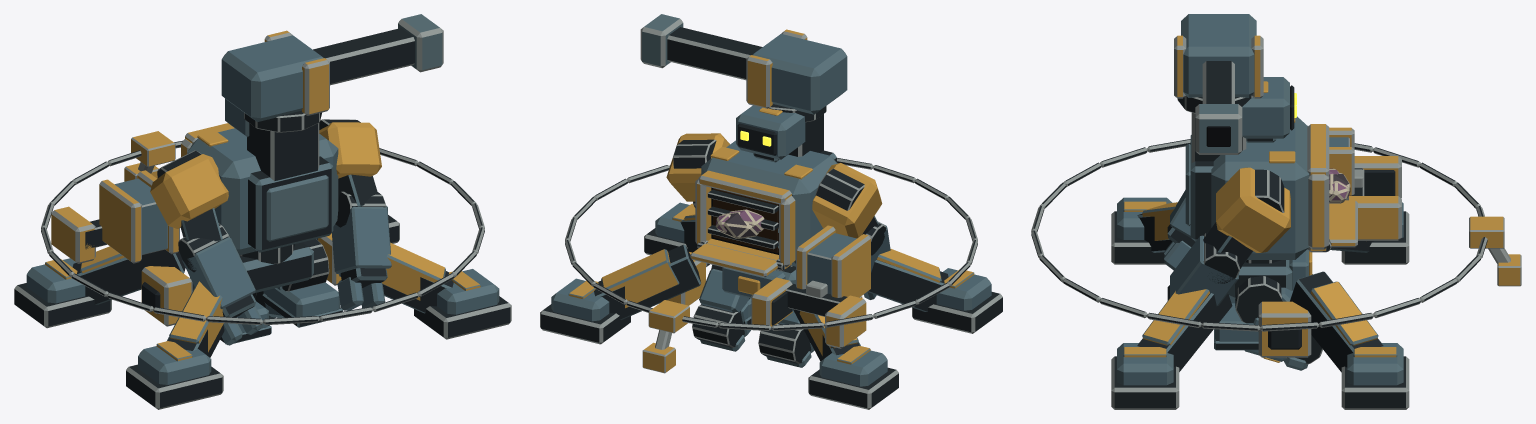
The model's file is hermes_anchor.glb.
The picture shows the model from 3 angles, left to right: view 1: azimuth 30°, elevation 25°; view 2: azimuth 150°, elevation 25°; view 3: azimuth 270°, elevation 25°; orthographic projection. The views are drawn at different scales.
Visible parts, largest first — view 1: Cannon rear armour, Intake torso armour, Left shoulder shell, Cannon sliding barrel, Rear power cover, Right forearm shell, Cannon support, Rear power housing, Left forearm shell, Winch yoke ochre cheek -1, Right shoulder shell, AnchorLF folding strut (+32 smaller); view 2: Cannon rear armour, Intake torso armour, Cannon sliding barrel, Left shoulder shell, AnchorRF ochre guard, AnchorLB folding strut, AnchorLF planted foot, Winch yoke ochre cheek -1, Square sensor head, AnchorRF folding strut, AnchorRF planted foot, AnchorLB planted foot (+37 smaller); view 3: Intake torso armour, Cannon rear armour, Right shoulder shell, Square sensor head, AnchorRF folding strut, Right forearm shell, AnchorRF planted foot, Winch broad ochre jaw Right, AnchorRB planted foot, AnchorRB folding strut, Conduit socket rim 1, Cannon muzzle shroud (+37 smaller).
Part boxes in pixels (box(x1,y1,x2,y2)): Cannon rear armour: box(221, 35, 323, 121); Intake torso armour: box(187, 128, 338, 255); Left shoulder shell: box(150, 154, 228, 228); Cannon sliding barrel: box(313, 28, 414, 85); Rear power cover: box(266, 175, 328, 241); Right forearm shell: box(332, 206, 391, 273); Cannon support: box(247, 122, 319, 180); Rear power housing: box(248, 156, 333, 252); Left forearm shell: box(182, 237, 255, 309); Winch yoke ochre cheek -1: box(99, 179, 141, 263); Right shoulder shell: box(319, 122, 381, 178); AnchorLF folding strut: box(72, 249, 185, 304); Cannon rear armour: box(752, 34, 847, 114); Intake torso armour: box(701, 140, 837, 266); Cannon sliding barrel: box(667, 27, 762, 80); Left shoulder shell: box(812, 163, 882, 238); AnchorRF ochre guard: box(601, 249, 679, 308); AnchorLB folding strut: box(867, 259, 948, 311); AnchorLF planted foot: box(808, 367, 898, 409); Winch yoke ochre cheek -1: box(831, 234, 870, 297); Square sensor head: box(736, 105, 805, 159); AnchorRF folding strut: box(594, 244, 701, 319); AnchorRF planted foot: box(540, 304, 630, 344); AnchorLB planted foot: box(912, 292, 1002, 333); Intake torso armour: box(1211, 116, 1309, 259); Cannon rear armour: box(1181, 14, 1256, 97); Right shoulder shell: box(1216, 167, 1290, 252); Square sensor head: box(1242, 77, 1289, 138); AnchorRF folding strut: box(1290, 271, 1383, 372); Right forearm shell: box(1170, 235, 1238, 305); AnchorRF planted foot: box(1341, 356, 1409, 409); Winch broad ochre jaw Right: box(1345, 196, 1401, 240); AnchorRB planted foot: box(1111, 356, 1179, 409); AnchorRB folding strut: box(1137, 293, 1232, 371); Conduit socket rim 1: box(1258, 301, 1311, 357); Cannon muzzle shroud: box(1195, 104, 1242, 154).
Size of the model in its own units: 2.43 by 1.82 by 2.6.
